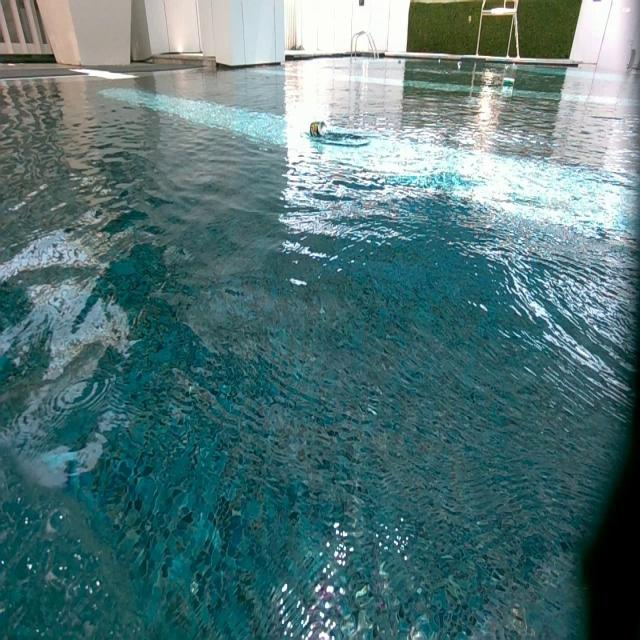Cans: (310, 122, 326, 138), (501, 77, 514, 89), (457, 61, 463, 69), (398, 59, 402, 64), (438, 59, 442, 63)
